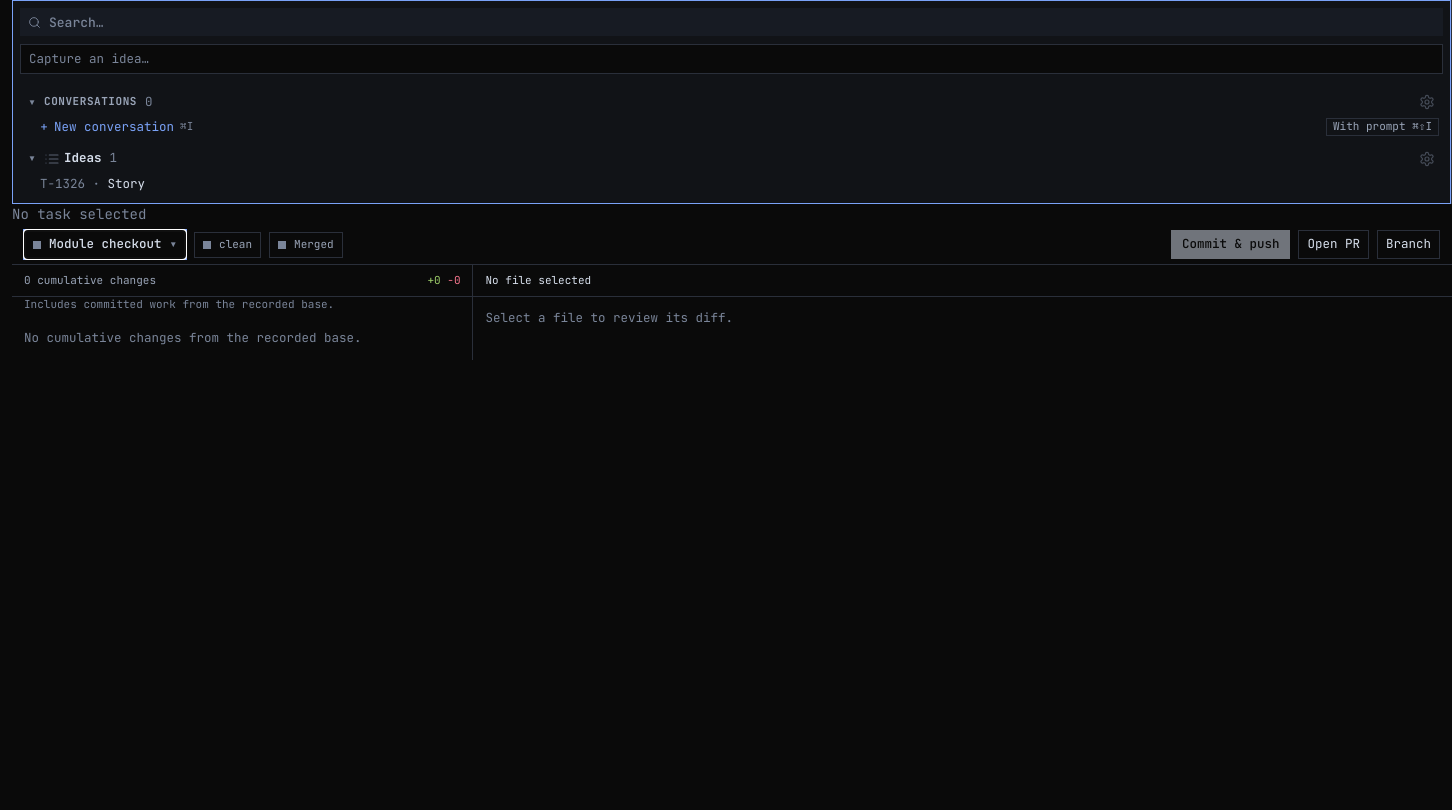
Test case: overhaul acceptance - merged worktree cleanup › [overhaul-200] explains cleanup blocker pull_request_not_merged without offering removal
Click the button "Branch".
click(1408, 245)  # box [1377,230,1440,259]
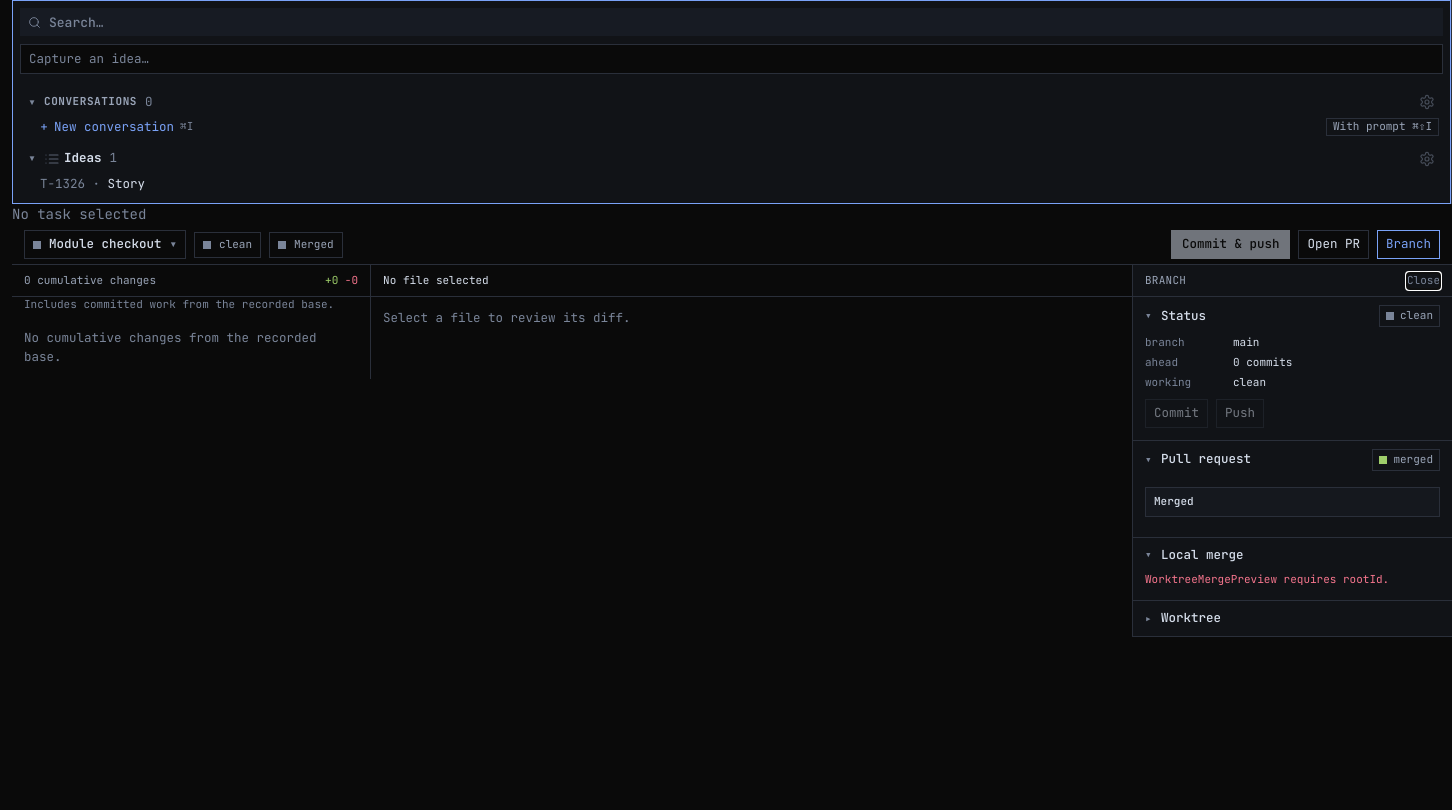
Expected: the element with test id "changes-branch-inspector" is shown, [1132,265,1451,637]
Click the heading "▸ Worktree".
click(1183, 618)  # box [1145,609,1221,626]
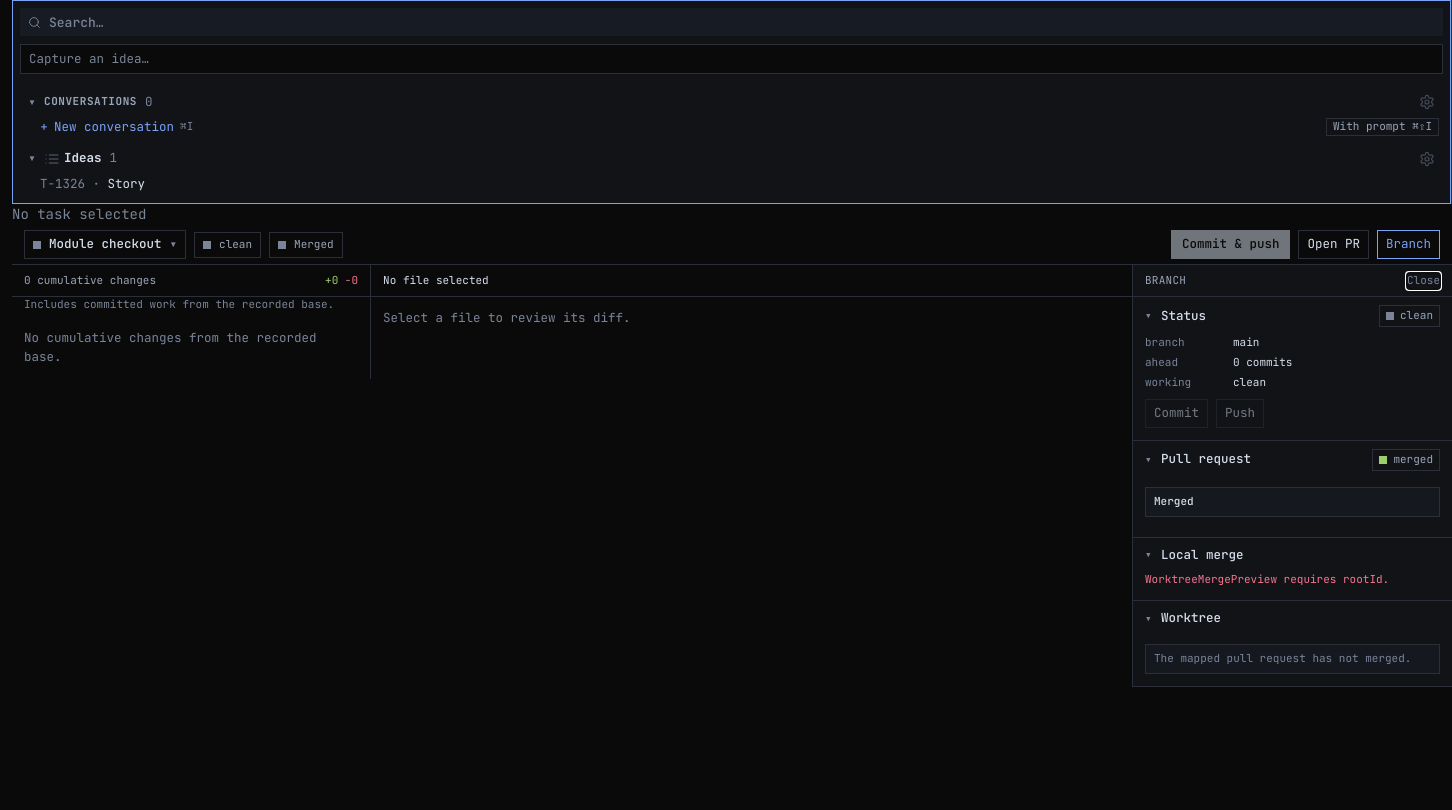
Expected: the text named "Worktree cleanup status" reads "The mapped pull request has not merged.", [1154,651,1411,665]
